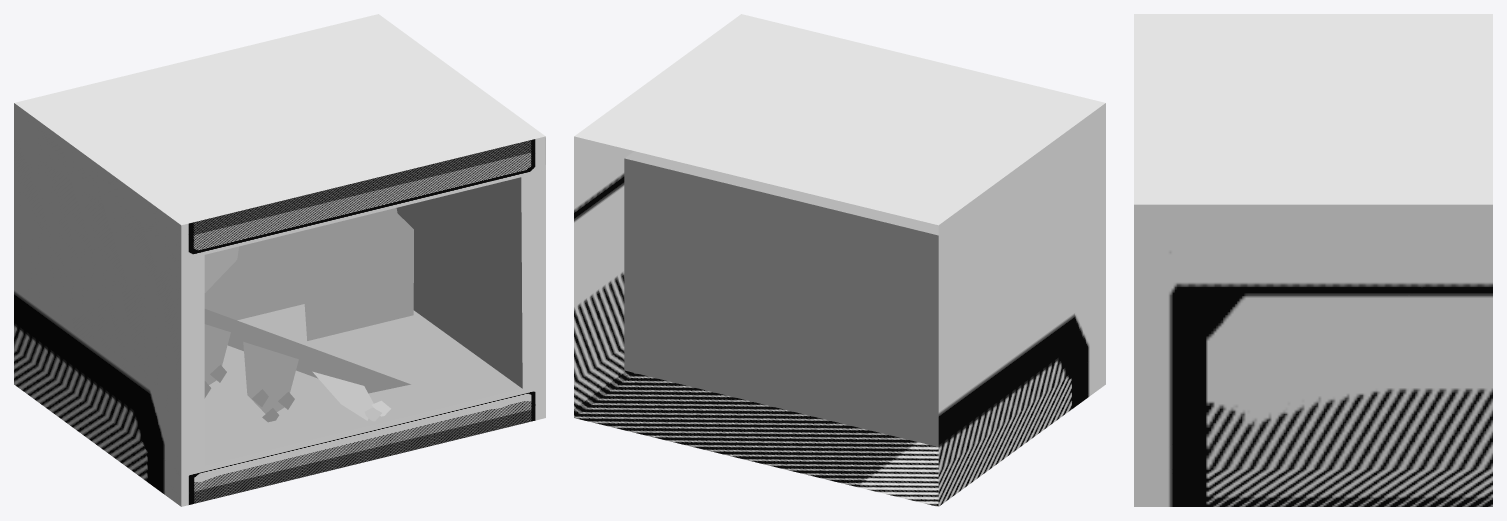
File: 小丑房.fbx
3 views of the same model, side by side, from view 1: azimuth 30°, elevation 25°; view 2: azimuth 150°, elevation 25°; view 3: azimuth 270°, elevation 25° (orthographic). The views are drawn at different scales.
Visible parts, largest first — view 1: 立方体.004, 平面.003, 平面.008, 平面.009, 平面.012, 平面.014, 平面.018, 平面.001; view 2: 立方体.004; view 3: 立方体.004.
Part boxes in pixels (x1=…): 立方体.004: x1=14, y1=14, x2=545, y2=506; 平面.003: x1=299, y1=211, x2=413, y2=340; 平面.008: x1=204, y1=309, x2=410, y2=393; 平面.009: x1=243, y1=342, x2=298, y2=413; 平面.012: x1=312, y1=371, x2=373, y2=420; 平面.014: x1=204, y1=324, x2=230, y2=384; 平面.018: x1=373, y1=208, x2=400, y2=253; 平面.001: x1=204, y1=246, x2=238, y2=292; 立方体.004: x1=574, y1=14, x2=1105, y2=506; 立方体.004: x1=1134, y1=14, x2=1492, y2=506.
Size of the model in its own units: 200 by 158 by 159.
